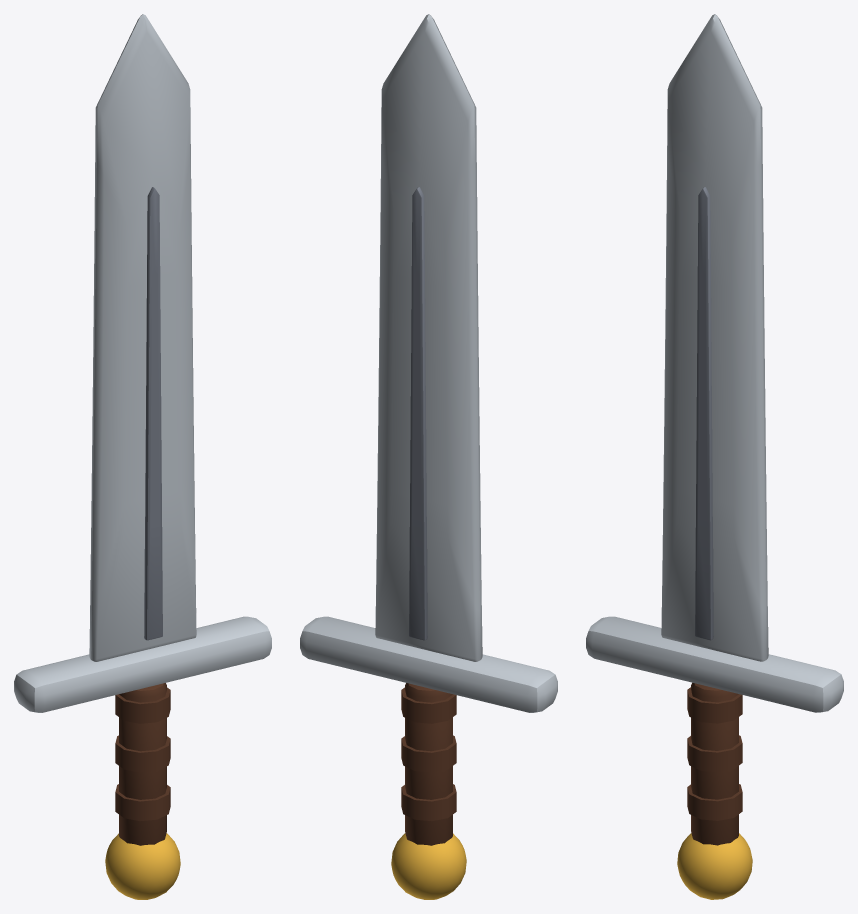
Rendered from sword.glb.
3 renders of one model, left to right at view 1: azimuth 30°, elevation 25°; view 2: azimuth 150°, elevation 25°; view 3: azimuth 330°, elevation 25°, orthographic.
Parts seen in each view (by area): view 1: wpn_sword; view 2: wpn_sword; view 3: wpn_sword.
Part boxes in pixels (<box>): wpn_sword: <box>14,14,271,899</box>; wpn_sword: <box>300,14,557,899</box>; wpn_sword: <box>586,14,843,899</box>.
Bounding box in the file's own units: 0.52 × 1.8 × 0.14.
